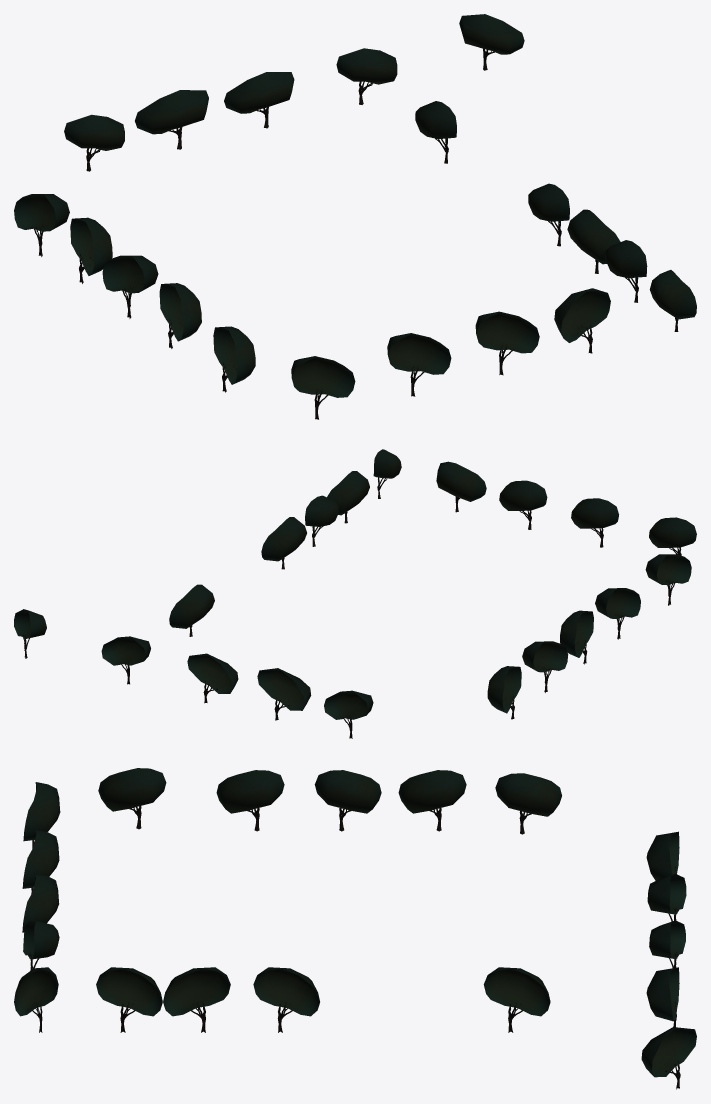
Rendered from tree.fbx.
The picture shows the model from 3 angles, top to bottom: view 1: azimuth 30°, elevation 25°; view 2: azimuth 150°, elevation 25°; view 3: azimuth 270°, elevation 25°; orthographic projection. The views are drawn at different scales.
Visible parts, largest first — view 1: polySurface411, polySurface1109, polySurface1110, polySurface1111, polySurface410, polySurface1112, polySurface405, polySurface1107, polySurface1108, polySurface409, polySurface1105, polySurface412 (+7 smaller); view 2: polySurface411, polySurface410, polySurface1112, polySurface1092, polySurface1099, polySurface1109, polySurface1111, polySurface1106, polySurface1108, polySurface1107, polySurface1110, polySurface1104 (+7 smaller); view 3: polySurface1100, polySurface1099, polySurface1102, polySurface1092, polySurface1106, polySurface1107, polySurface1108, polySurface1104, polySurface1105, polySurface405, polySurface1101, polySurface409 (+7 smaller).
Boxes of the visible parts, <box> form: polySurface411: <box>135,90,208,149</box>; polySurface1109: <box>387,333,451,396</box>; polySurface1110: <box>291,356,355,419</box>; polySurface1111: <box>475,311,539,375</box>; polySurface410: <box>224,72,294,128</box>; polySurface1112: <box>554,288,610,353</box>; polySurface405: <box>459,14,524,70</box>; polySurface1107: <box>159,283,201,348</box>; polySurface1108: <box>213,326,255,392</box>; polySurface409: <box>336,48,397,104</box>; polySurface1105: <box>102,255,158,318</box>; polySurface412: <box>64,114,124,171</box>; polySurface411: <box>257,668,311,720</box>; polySurface410: <box>187,653,238,703</box>; polySurface1112: <box>436,461,486,512</box>; polySurface1092: <box>169,584,214,636</box>; polySurface1099: <box>261,517,306,569</box>; polySurface1109: <box>571,498,618,547</box>; polySurface1111: <box>499,480,547,529</box>; polySurface1106: <box>522,641,568,692</box>; polySurface1108: <box>645,554,691,605</box>; polySurface1107: <box>595,588,640,639</box>; polySurface1110: <box>649,517,696,555</box>; polySurface1104: <box>487,666,521,719</box>; polySurface1100: <box>163,967,230,1032</box>; polySurface1099: <box>253,967,319,1032</box>; polySurface1102: <box>96,967,162,1032</box>; polySurface1092: <box>483,967,550,1032</box>; polySurface1106: <box>398,770,466,831</box>; polySurface1107: <box>216,770,284,831</box>; polySurface1108: <box>98,768,166,829</box>; polySurface1104: <box>495,773,561,834</box>; polySurface1105: <box>314,770,381,831</box>; polySurface405: <box>641,1027,696,1089</box>; polySurface1101: <box>14,967,58,1032</box>; polySurface409: <box>646,967,679,1027</box>.
Size of the model in its own units: 287 by 31.49 by 298.
